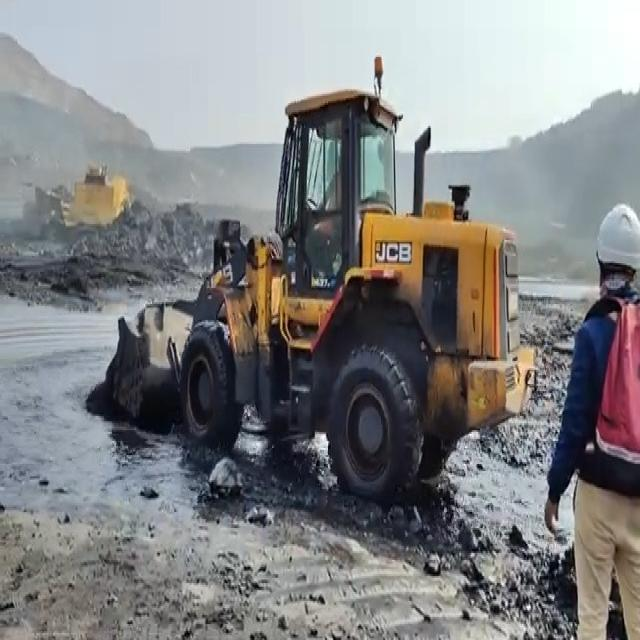buldozerpayloadergrader: (94, 87, 538, 490)
